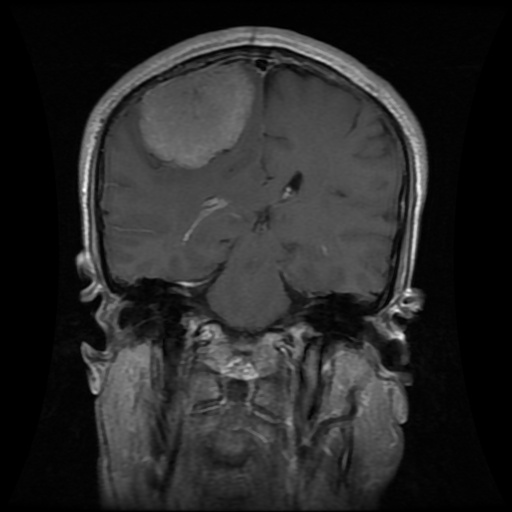meningioma: (139, 63, 256, 168)
